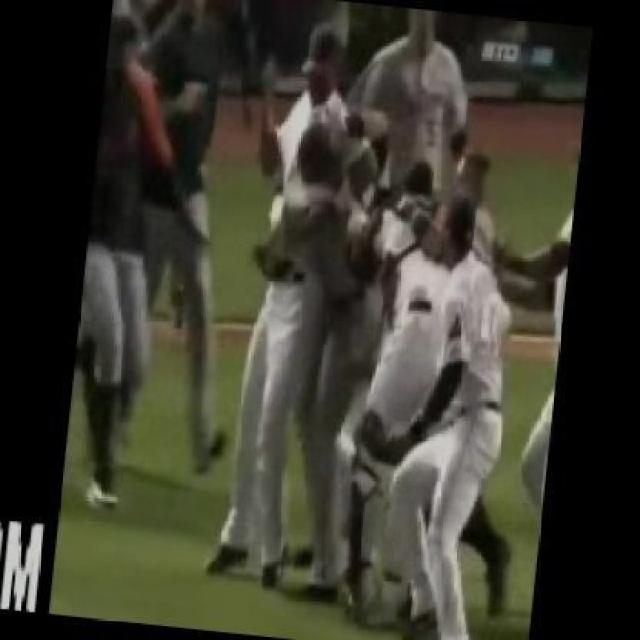fight: (220, 17, 511, 621)
